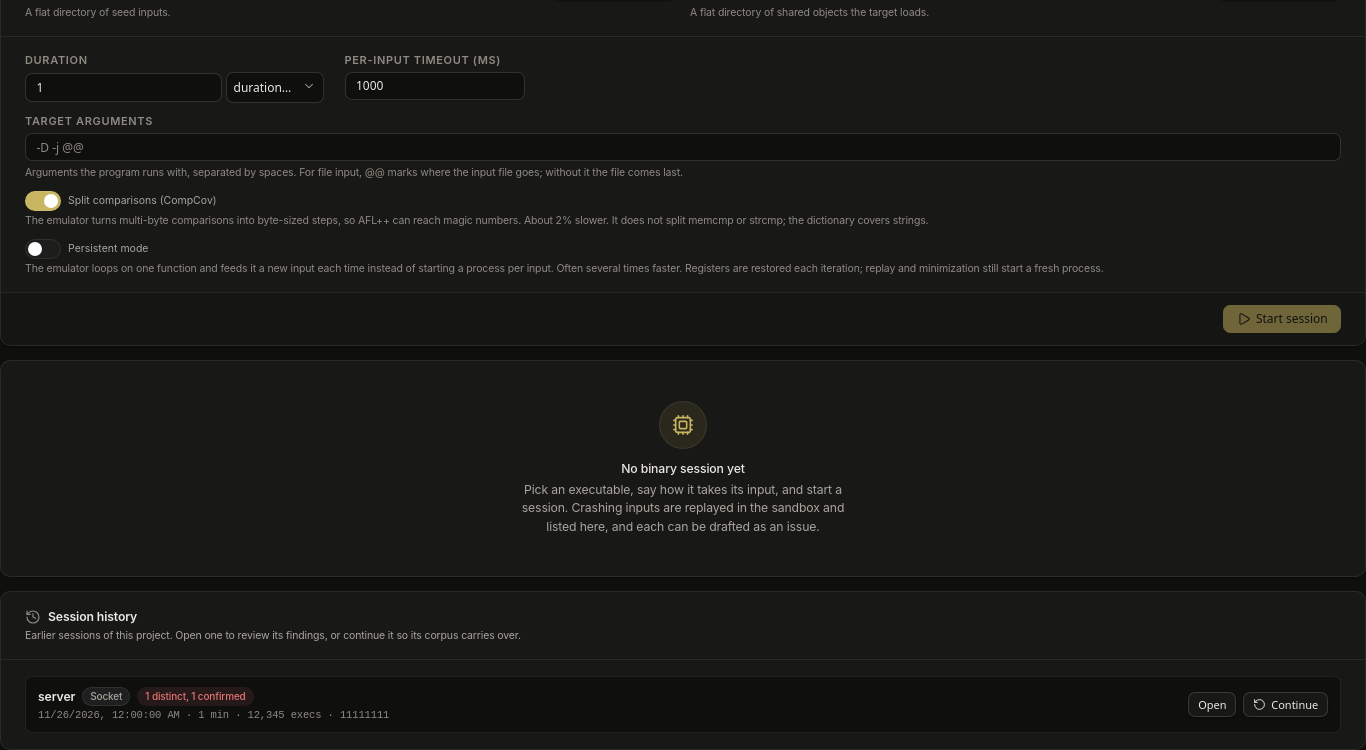
BinaryView › shows a stored AI note and drafts a new one on request
(page scrolled)
Step 1. Click the button "Open" → [1212, 705], box [1188, 692, 1236, 717]
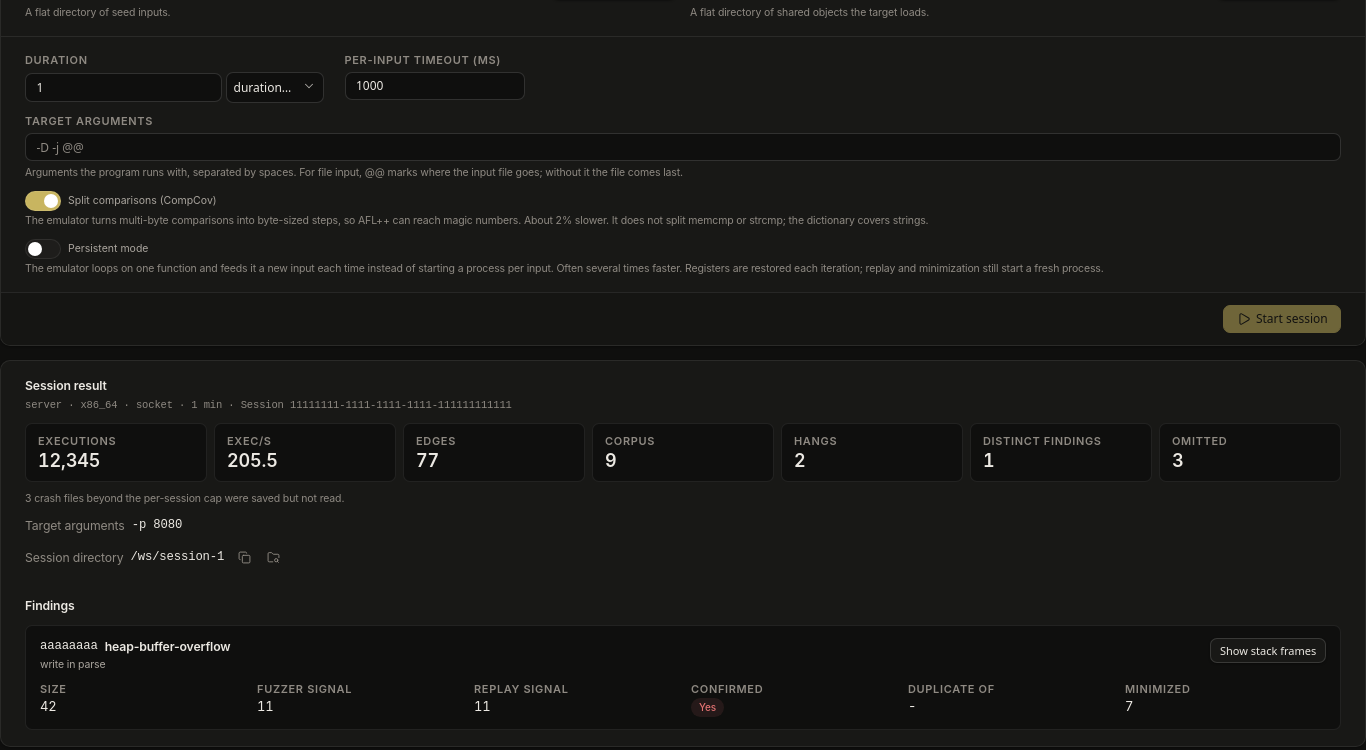
Step 2. Click the button "Show stack frames" → [1268, 651], box [1210, 638, 1326, 663]
(page scrolled)
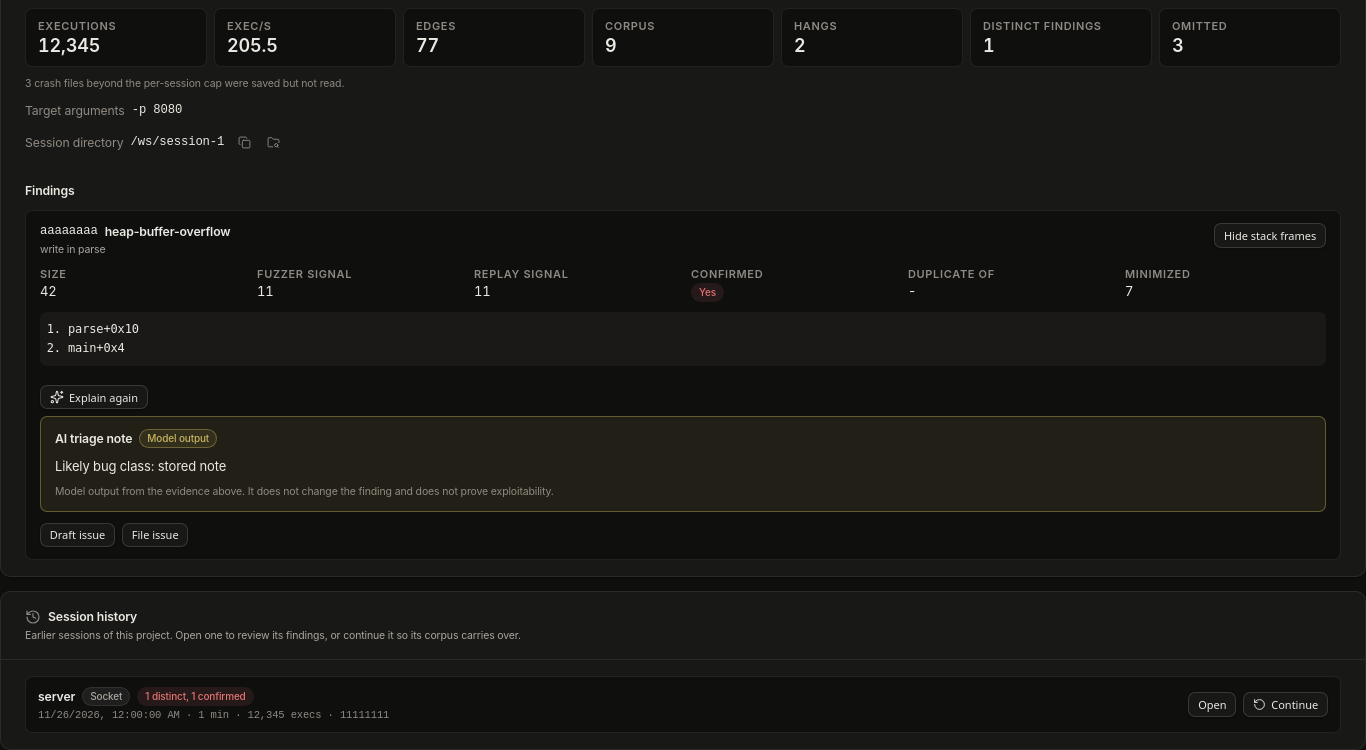
Now the text "stored note" is shown, box [55, 458, 226, 474]
Now the text "Model output" is shown, box [139, 429, 217, 448]
Step 3. Click the button "Explain again" → [94, 397], box [40, 385, 148, 409]
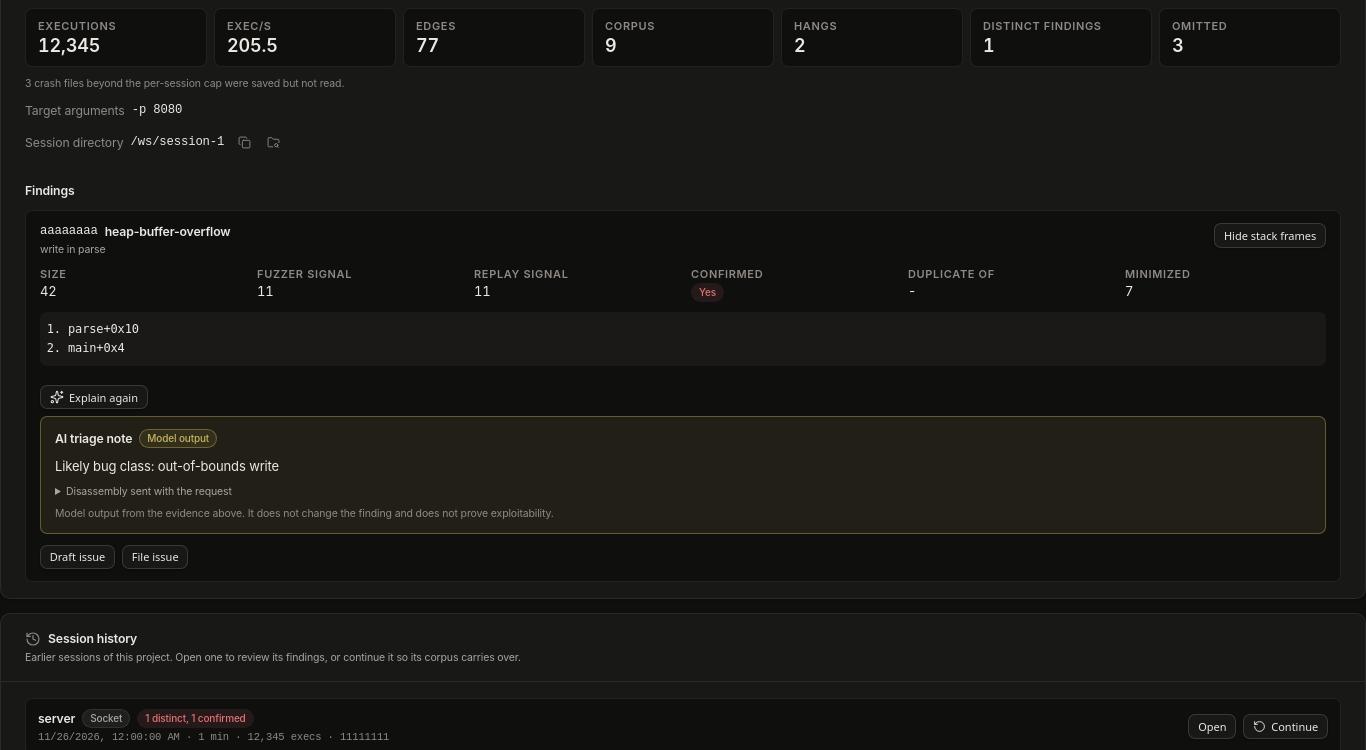
Now the text "out-of-bounds write" is shown, box [55, 458, 279, 474]
Now the text "Disassembly sent with the request" is shown, box [66, 485, 232, 498]
